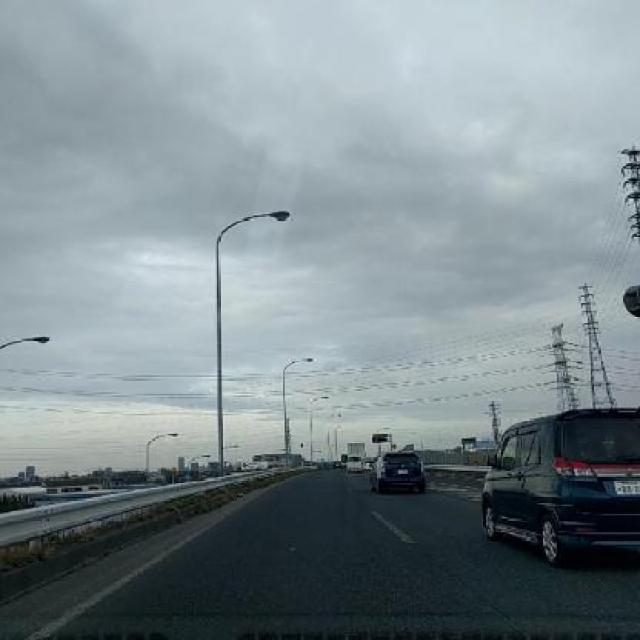Guard rail: (2, 461, 283, 580)
